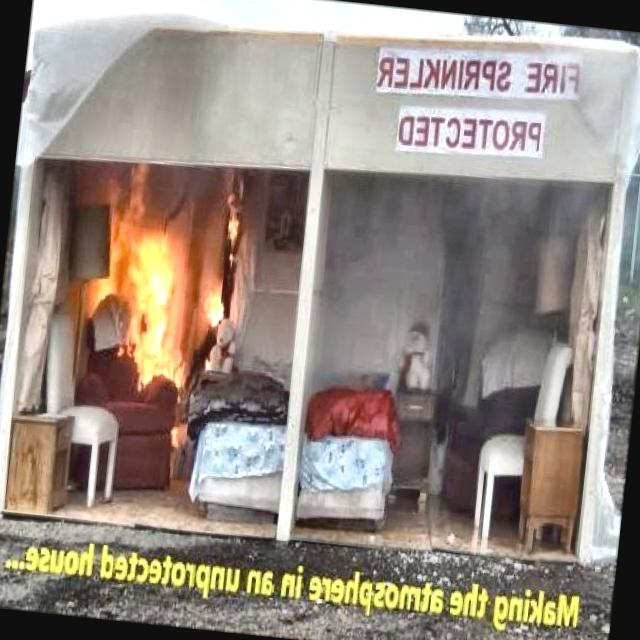fire: (91, 156, 250, 392)
